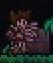zombie: (1, 1, 53, 63)
